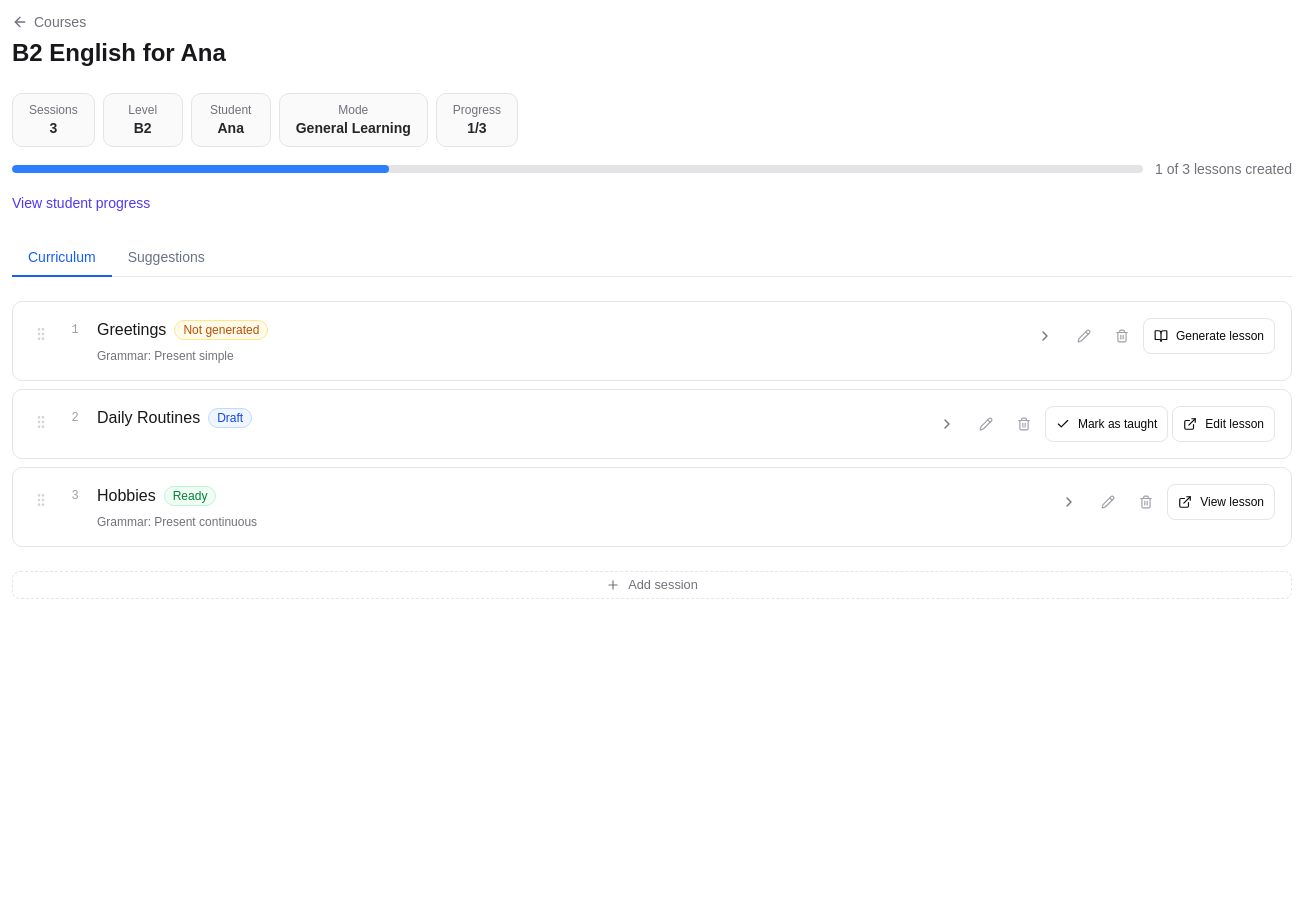
CourseDetail › shows add entry form when add button clicked
This screenshot has width=1304, height=912.
Expected: the heading "B2 English for Ana" is shown, [12,37,226,69]
Click the button with test id "add-entry-btn": (652, 585) [12,571,1292,599]
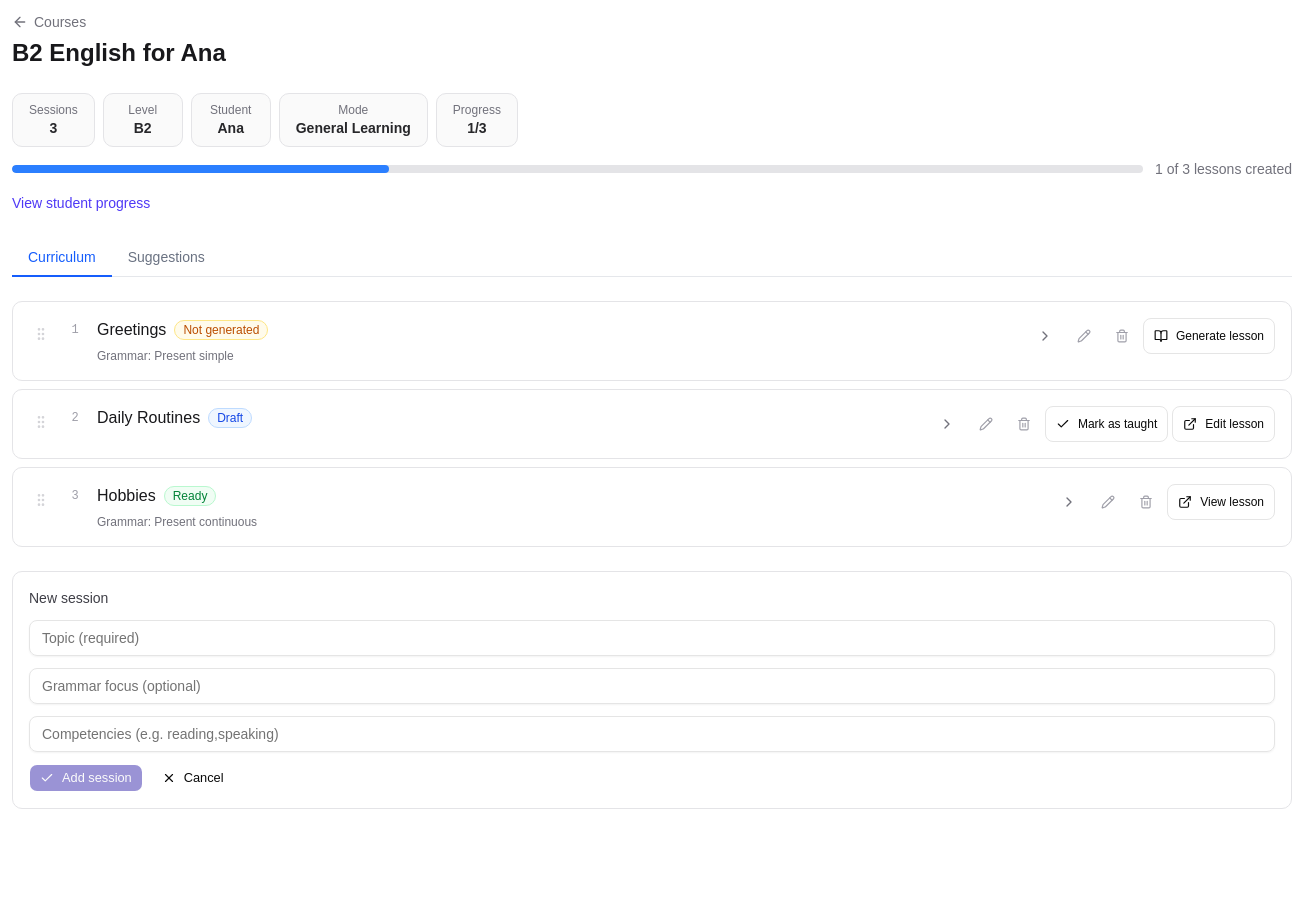
Now the element with test id "add-entry-form" is shown, box [12,571,1292,809]
Now the field with test id "add-topic" is shown, box [29,620,1275,656]
